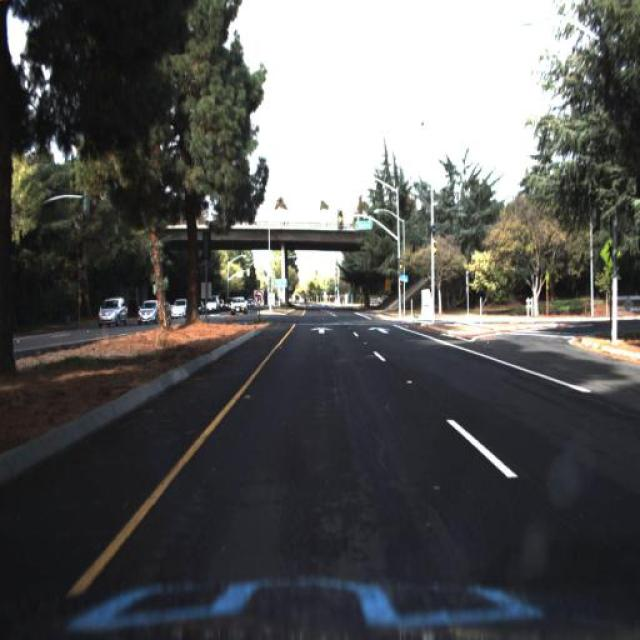car: (95, 299, 126, 331), (97, 296, 124, 326), (166, 294, 189, 328), (196, 296, 217, 320), (138, 298, 158, 322), (227, 294, 247, 316)
trafficLight-Green: (428, 236, 442, 262)
trafficLight-YellowLeft: (336, 212, 344, 242), (430, 233, 438, 258), (397, 255, 405, 279)
